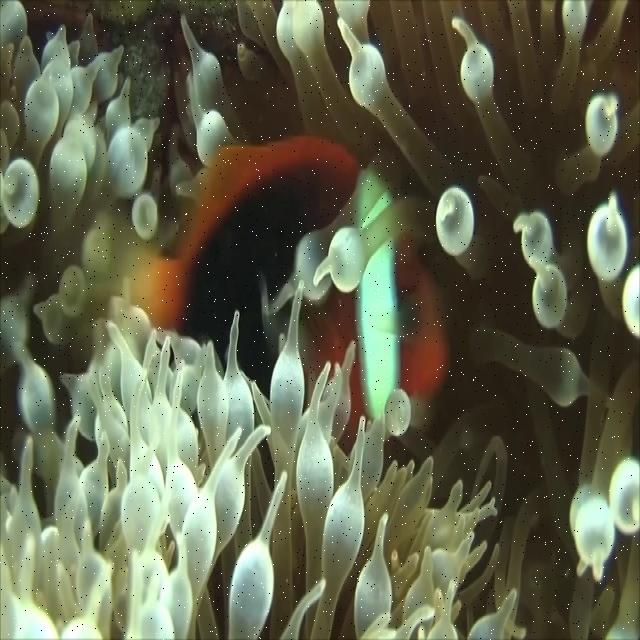reefs: (1, 1, 639, 639), (236, 0, 628, 327)
